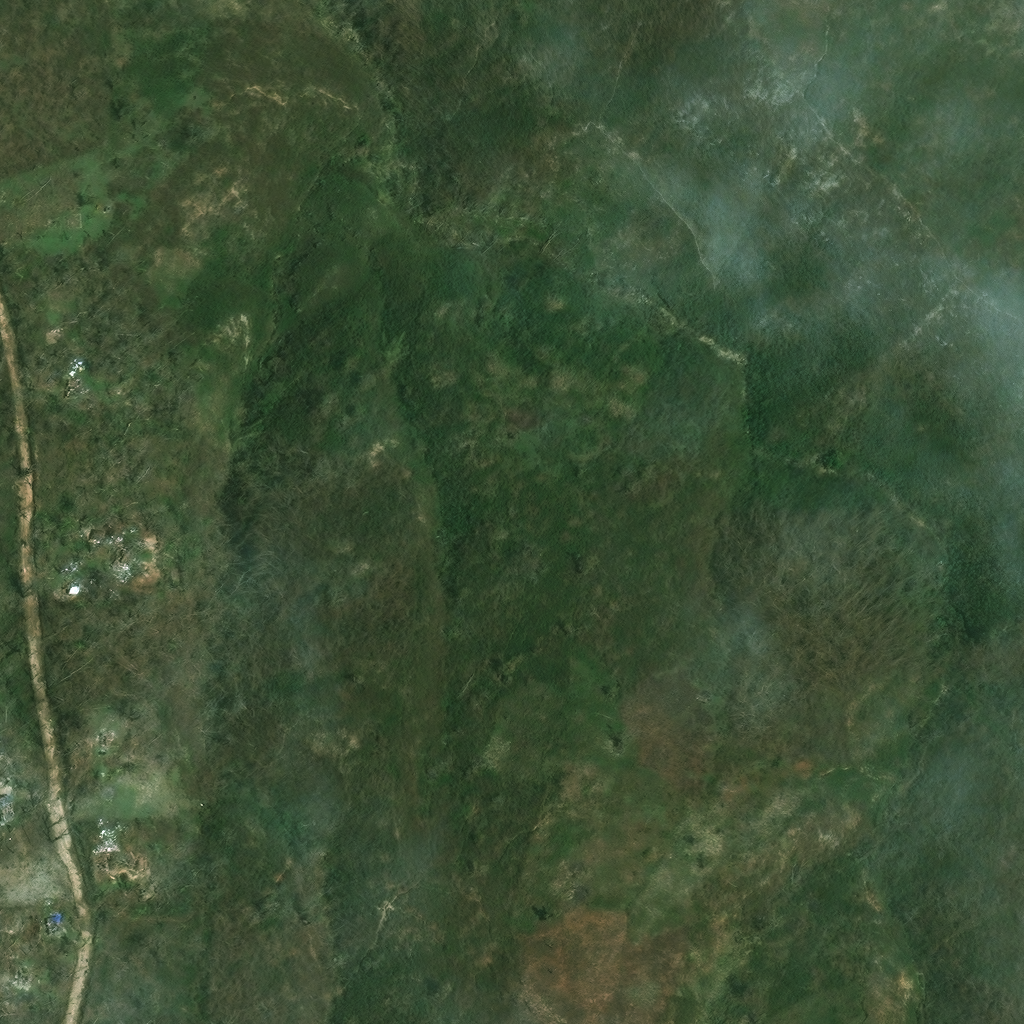destroyed: (99, 842, 128, 873), (1, 788, 25, 817), (113, 550, 129, 570), (50, 912, 68, 929), (61, 577, 80, 592), (19, 966, 32, 984), (142, 876, 157, 891), (59, 216, 73, 232), (65, 379, 78, 396), (94, 734, 108, 749), (3, 771, 14, 782), (88, 399, 97, 407), (37, 924, 44, 932), (107, 759, 113, 766)
minor_damage: (90, 528, 102, 539)
unclassified: (0, 180, 10, 200)
